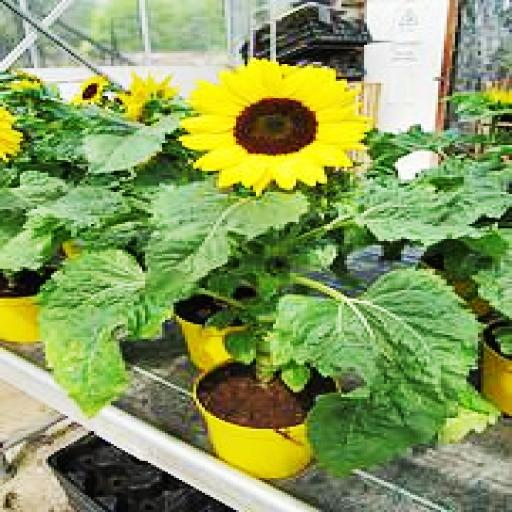sunflower: (182, 58, 373, 194)
